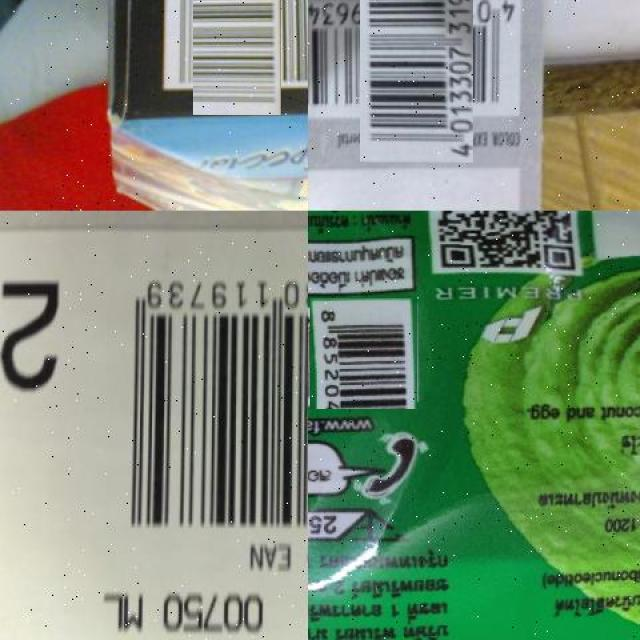Barcode: (95, 255, 308, 542), (335, 0, 498, 138), (309, 299, 418, 409), (180, 0, 295, 102)
